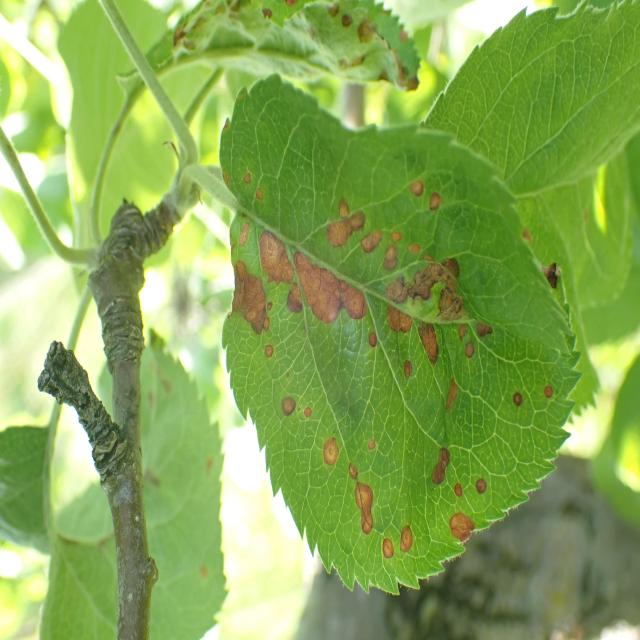frog-eye-leaf-spot: (217, 76, 587, 601), (123, 0, 423, 95)
